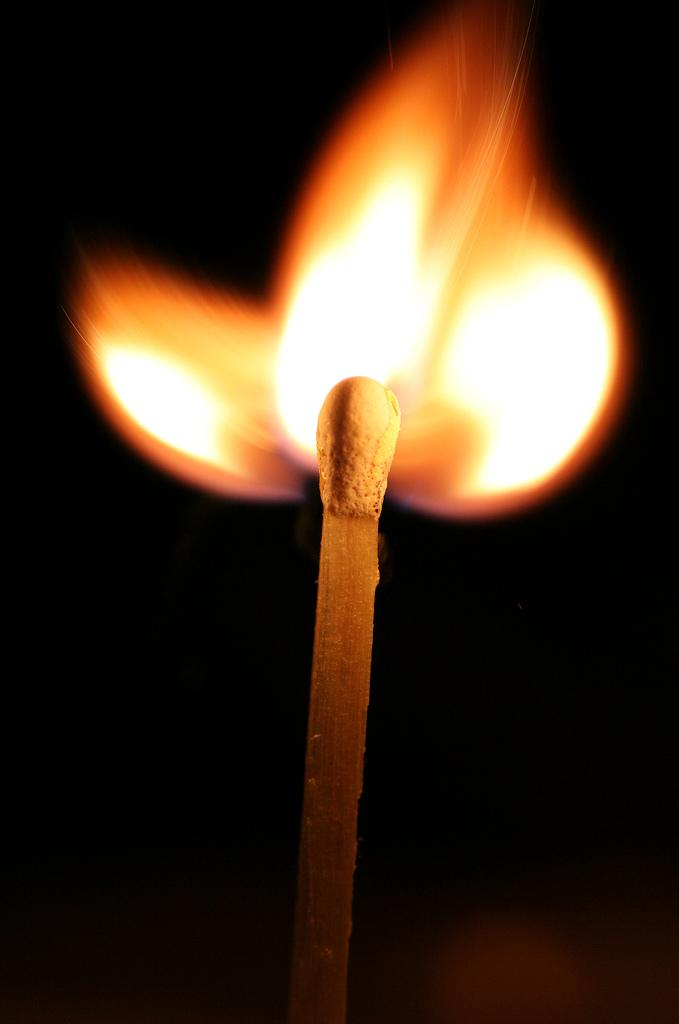fire: (285, 168, 585, 478), (112, 310, 280, 468)
